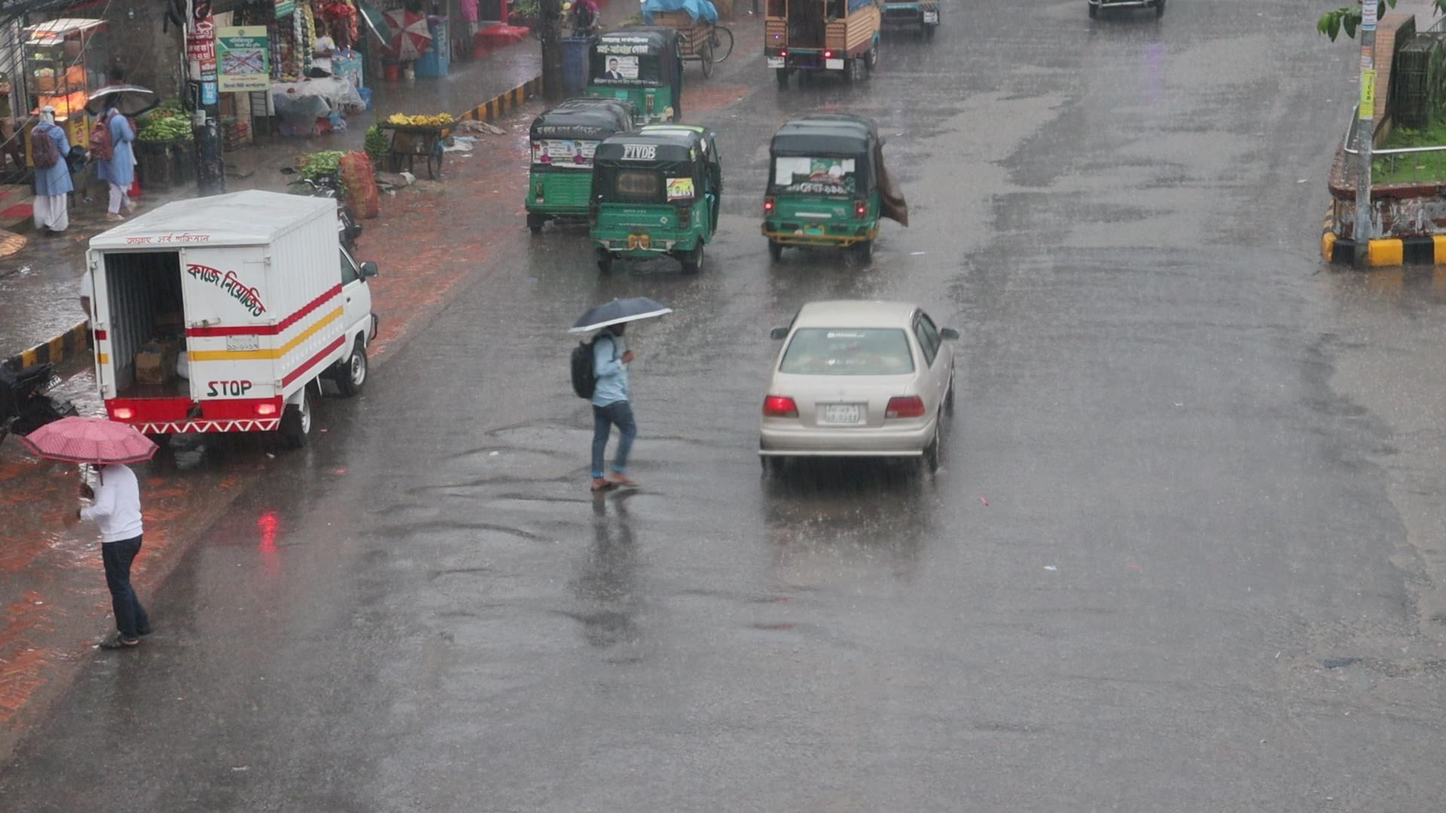Car: (749, 298, 962, 490)
